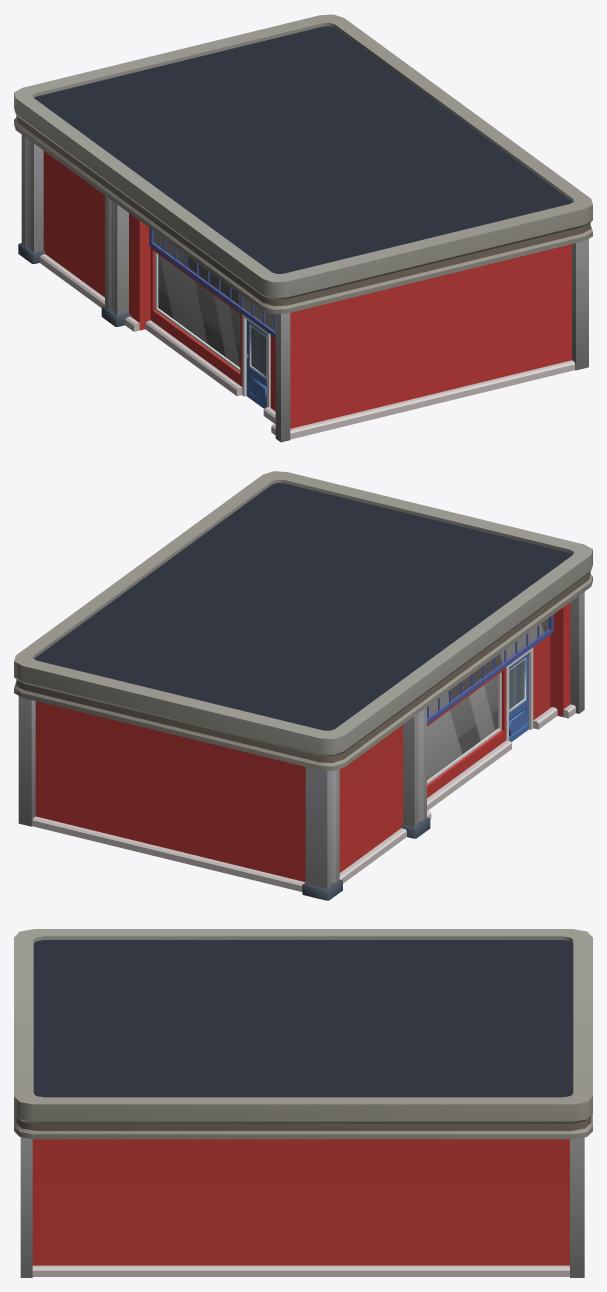
Rendered from Building_11_4_E.fbx.
The picture shows the model from 3 angles, top to bottom: view 1: azimuth 30°, elevation 25°; view 2: azimuth 150°, elevation 25°; view 3: azimuth 270°, elevation 25°; orthographic projection. The views are drawn at different scales.
Visible parts, largest first — view 1: Building_11_4_E; view 2: Building_11_4_E; view 3: Building_11_4_E.
Part boxes in pixels (bbox=[...]): Building_11_4_E: bbox=[14, 14, 592, 442]; Building_11_4_E: bbox=[14, 471, 592, 900]; Building_11_4_E: bbox=[14, 929, 592, 1277].
Size of the model in its own units: 833 by 393 by 1163.
